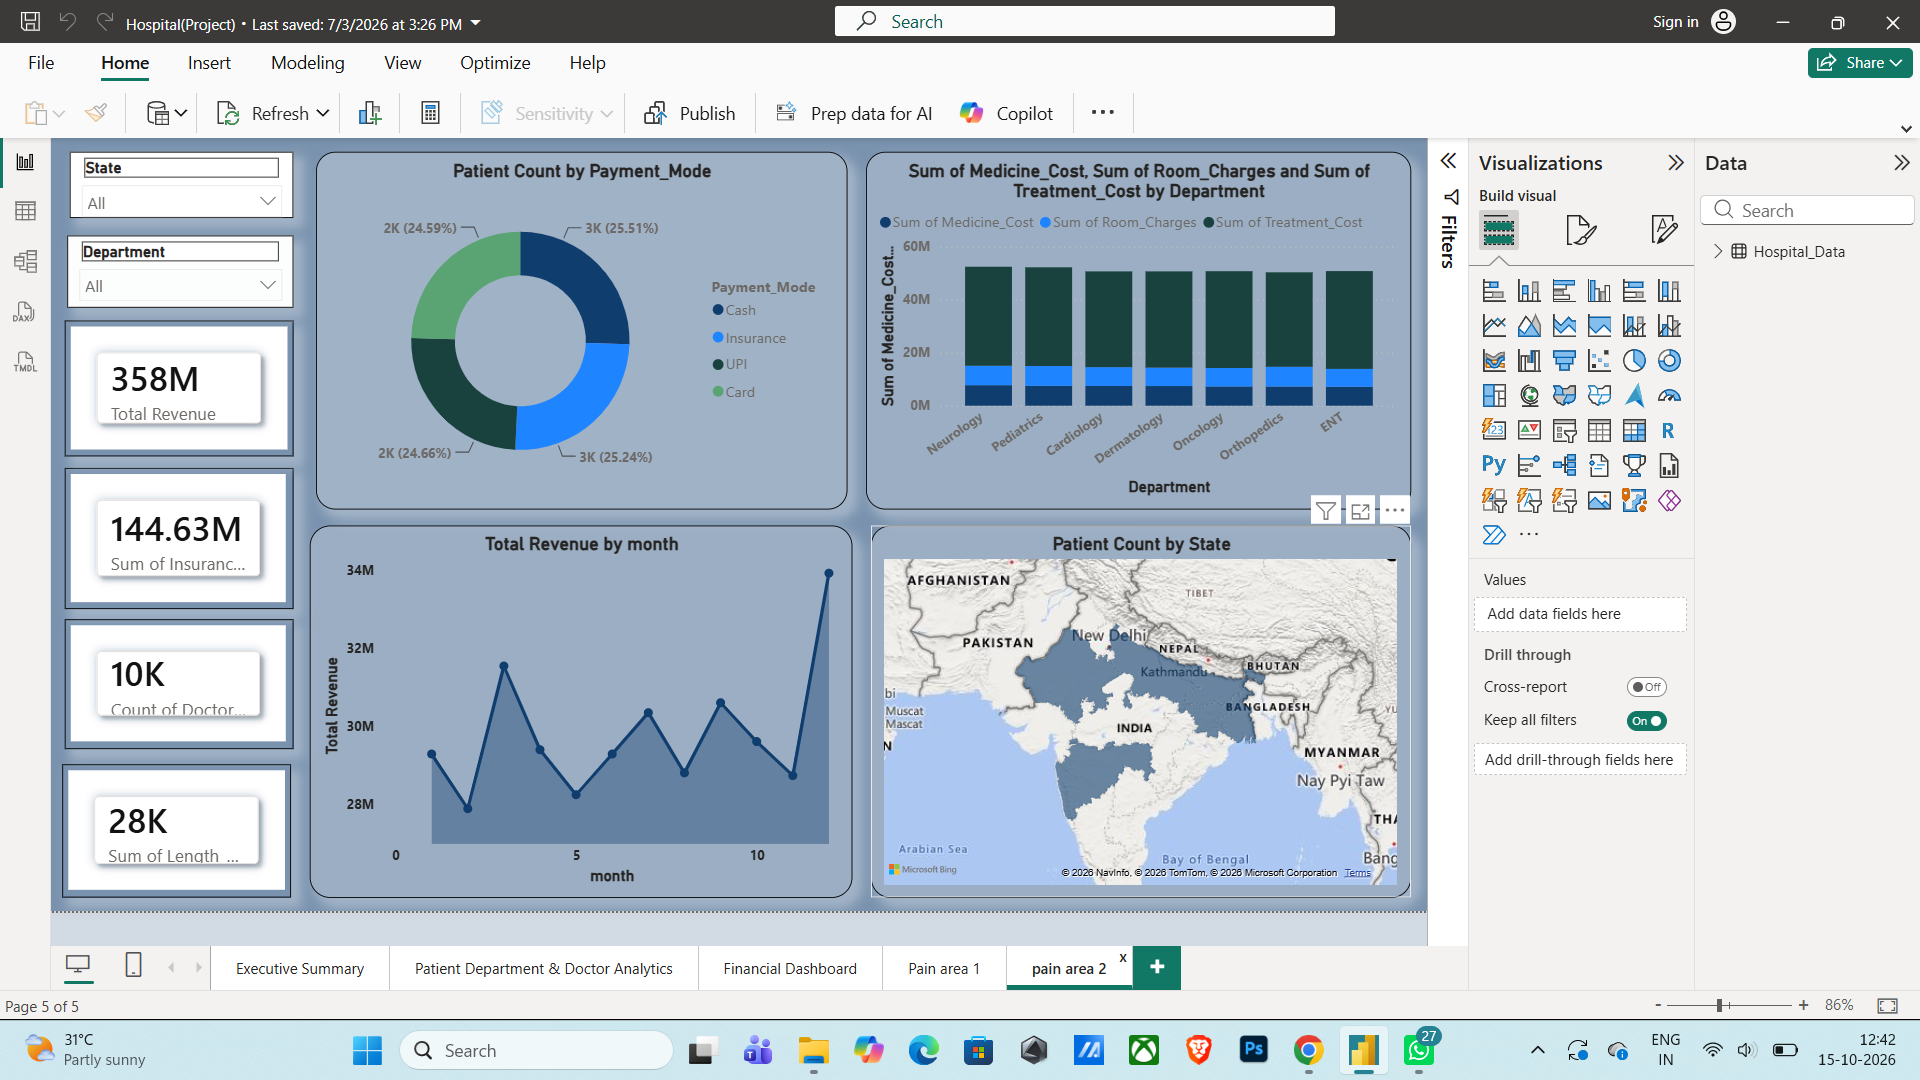

What the dashboard file says about the page in this screenshot:
{"tool":"powerbi","page":{"name":"pain area 2","canvas":[1280,720],"ordinal":4},"visuals":[{"type":"cardVisual","fields":{"Data":["Sum(Hospital_Data.Length_of_Stay)"]},"box":[10.1,582.7,213,124],"z":0},{"type":"cardVisual","fields":{"Data":["Sum(Hospital_Data.Insurance_Claim)"]},"box":[12.8,307,212.8,131.4],"z":1000},{"type":"cardVisual","fields":{"Data":["CountNonNull(Hospital_Data.Doctor_Name)"]},"box":[12.8,447.7,212.8,120.9],"z":2000},{"type":"cardVisual","fields":{"Data":["Hospital_Data.Total Revenue"]},"box":[12.4,170.2,213,126.2],"z":3000},{"type":"donutChart","fields":{"Category":["Hospital_Data.Payment_Mode"],"Y":["Hospital_Data.Patient Count"]},"box":[246.5,12.8,494.2,332.6],"z":4000},{"type":"lineStackedColumnComboChart","fields":{"Category":["Hospital_Data.Department"],"Y":["Sum(Hospital_Data.Medicine_Cost)","Sum(Hospital_Data.Room_Charges)","Sum(Hospital_Data.Treatment_Cost)"]},"box":[758.1,12.8,507,332.6],"z":5000},{"type":"filledMap","fields":{"Category":["Hospital_Data.State"]},"box":[762.8,360.5,502.3,346.5],"z":6000},{"type":"lineChart","fields":{"Category":["Hospital_Data.month"],"Y":["Hospital_Data.Total Revenue"]},"box":[241.2,360.7,504.9,346],"z":7000},{"type":"slicer","fields":{"Values":["Hospital_Data.State"]},"box":[17.4,12.8,208.1,61.6],"z":8000},{"type":"slicer","fields":{"Values":["Hospital_Data.Department"]},"box":[15.1,90.7,210.5,67.4],"z":9000}]}

Visuals, with their boxes on the page's 1280x720 design canvas (x1, y1, x2, y2). These are canvas units, not pixel positions in the 1920x1080 screenshot, which may show the page scaled, cropped or inside an application window:
cardVisual - Sum(Hospital_Data.Length_of_Stay): {"x1": 10, "y1": 583, "x2": 223, "y2": 707}
cardVisual - Sum(Hospital_Data.Insurance_Claim): {"x1": 13, "y1": 307, "x2": 226, "y2": 438}
cardVisual - CountNonNull(Hospital_Data.Doctor_Name): {"x1": 13, "y1": 448, "x2": 226, "y2": 569}
cardVisual - Hospital_Data.Total Revenue: {"x1": 12, "y1": 170, "x2": 225, "y2": 296}
donutChart - Hospital_Data.Payment_Mode x Hospital_Data.Patient Count: {"x1": 246, "y1": 13, "x2": 741, "y2": 345}
lineStackedColumnComboChart - Hospital_Data.Department x Sum(Hospital_Data.Medicine_Cost): {"x1": 758, "y1": 13, "x2": 1265, "y2": 345}
filledMap - Hospital_Data.State: {"x1": 763, "y1": 360, "x2": 1265, "y2": 707}
lineChart - Hospital_Data.month x Hospital_Data.Total Revenue: {"x1": 241, "y1": 361, "x2": 746, "y2": 707}
slicer - Hospital_Data.State: {"x1": 17, "y1": 13, "x2": 226, "y2": 74}
slicer - Hospital_Data.Department: {"x1": 15, "y1": 91, "x2": 226, "y2": 158}
